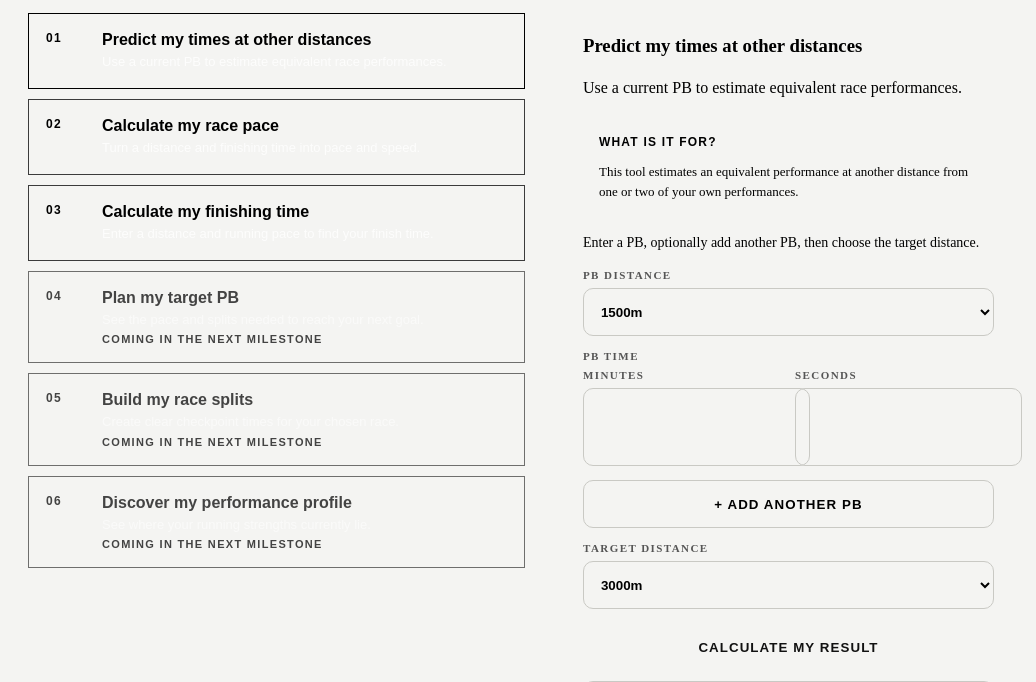
Tool 01 prediction › returns no time for a 100m PB and a 10K target
(page scrolled)
Select "100m" in the dropdown labelled "PB distance" at (788,312), box [583,288,994,336]
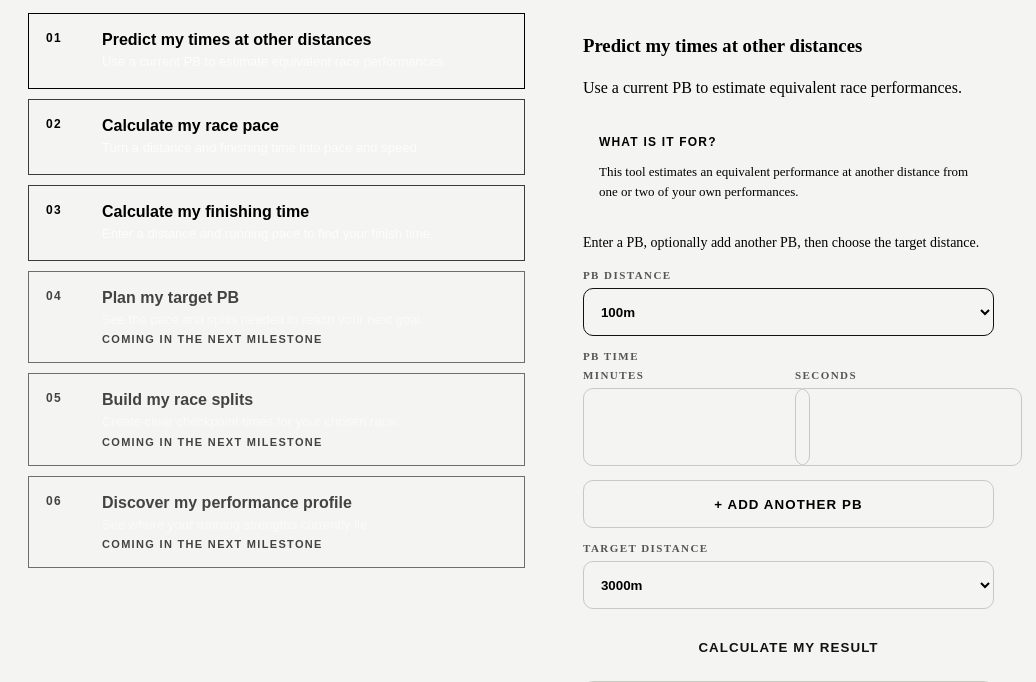
Type "0" into the field labelled "Minutes" at (696,427), box [583,388,810,466]
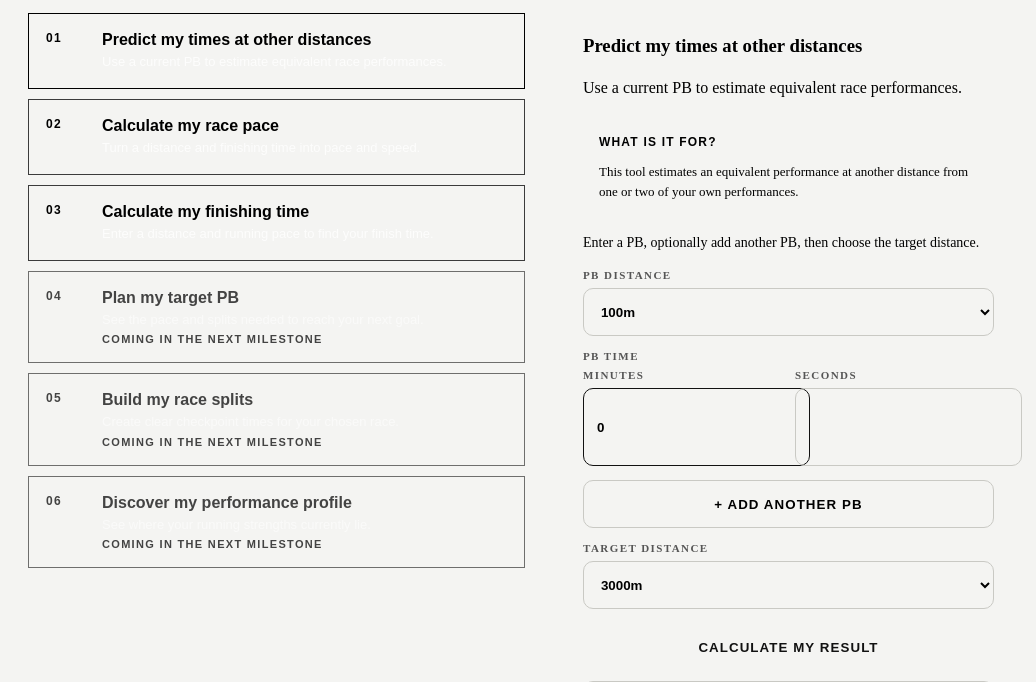
Type "12.5" into the field labelled "Seconds" at (908,427), box [795,388,1022,466]
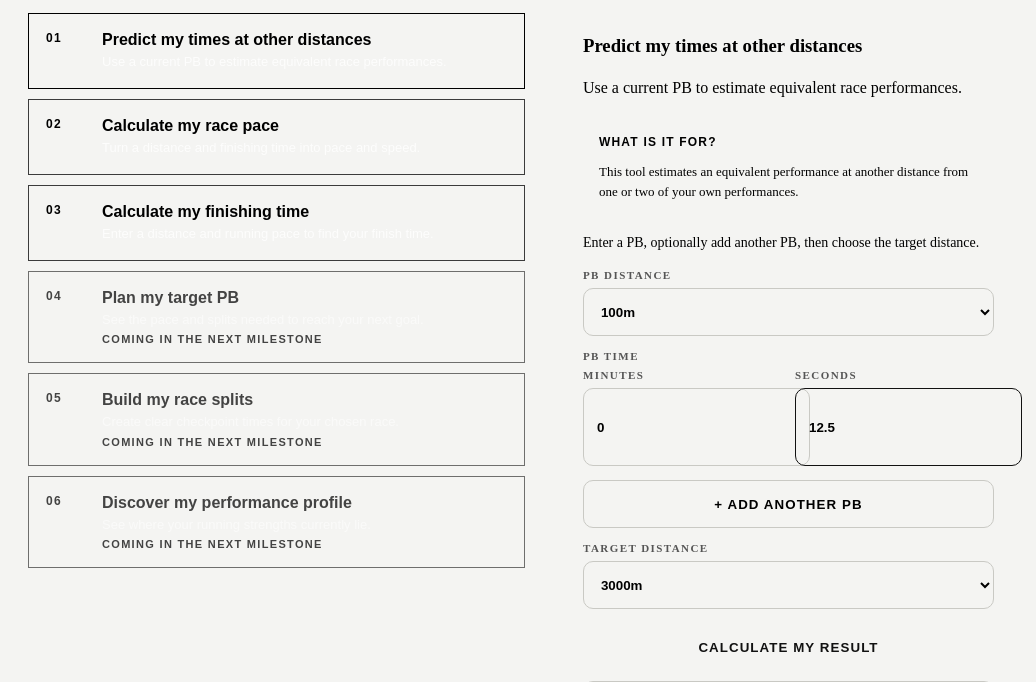
Select "10K" in the dropdown labelled "Target distance" at (788,585), box [583,561,994,609]
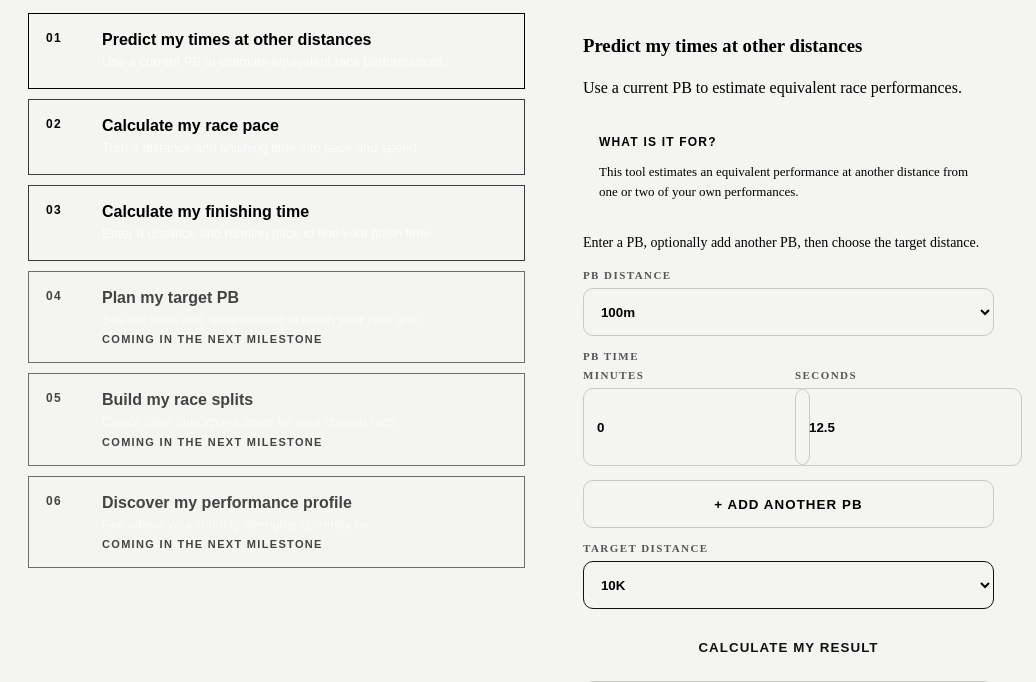
Click the button "Calculate my result" at (788,647), box [583,623,994,671]
(page scrolled)
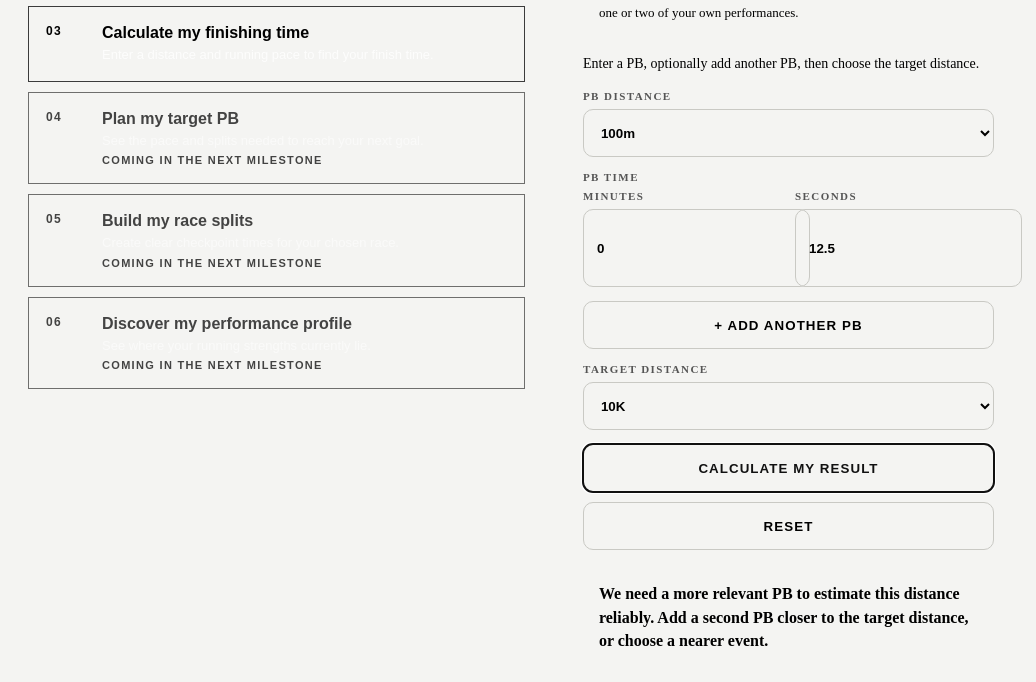
Check: the message shows "more relevant PB", box [599,585,969,649]
